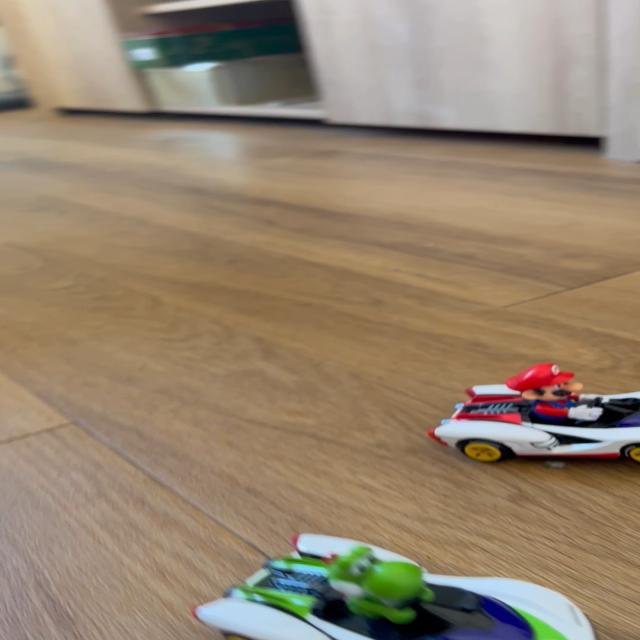mario: (420, 362, 640, 473)
yoshi: (193, 526, 615, 640)
